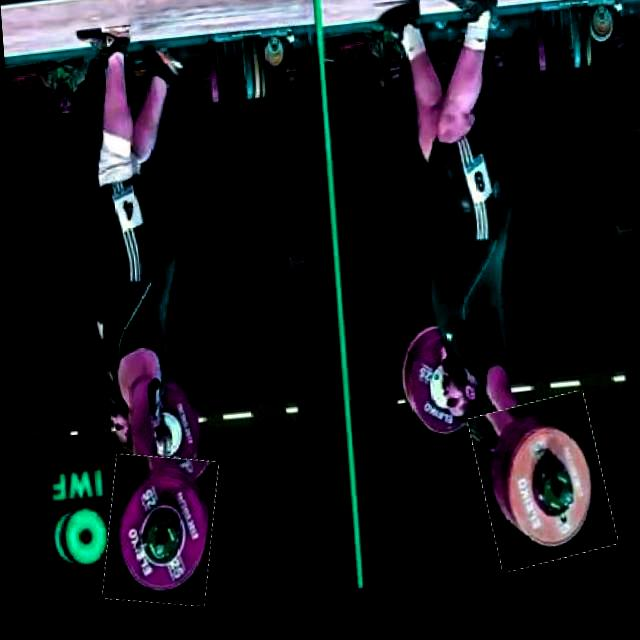barbell: (465, 405, 604, 580), (91, 452, 213, 612)
